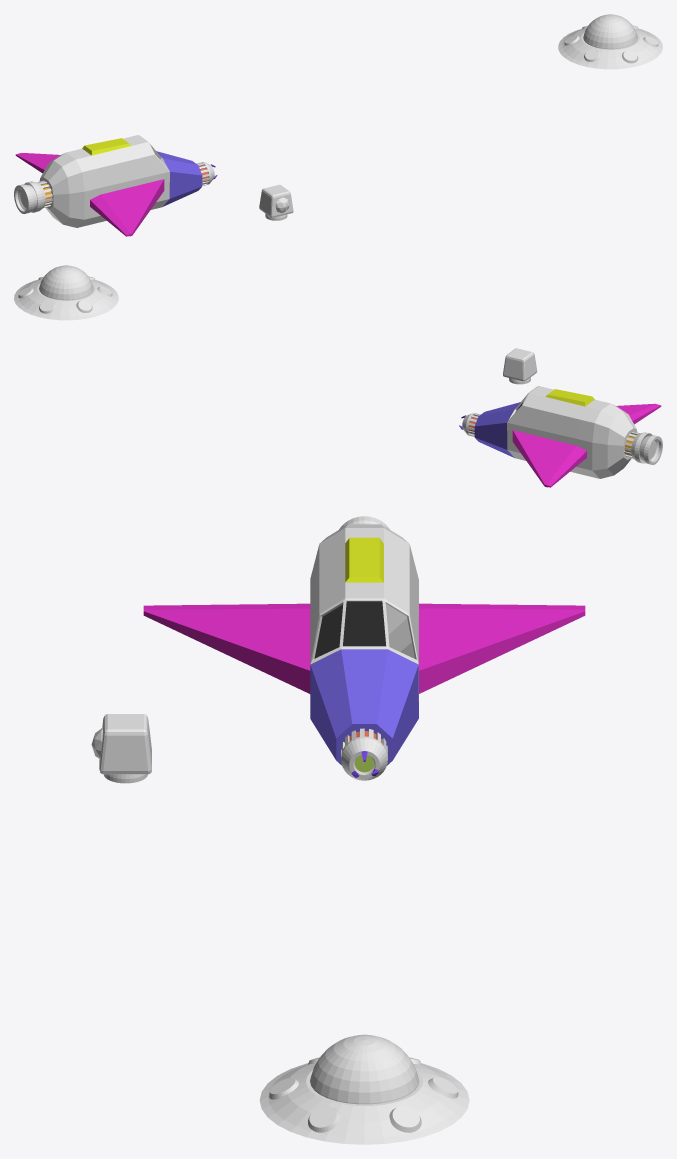
File: Spaceship.fbx
3 views of the same model, one above another, from view 1: azimuth 30°, elevation 25°; view 2: azimuth 150°, elevation 25°; view 3: azimuth 270°, elevation 25° (orthographic). The views are drawn at different scales.
Visible parts, largest first — view 1: Cylinder.001, Circle, Sphere, Cube; view 2: Cylinder.001, Circle, Sphere, Cube; view 3: Cylinder.001, Circle, Sphere, Cube.
Part boxes in pixels (x1=…): Cylinder.001: x1=14, y1=135, x2=217, y2=236; Circle: x1=558, y1=28, x2=662, y2=69; Sphere: x1=583, y1=14, x2=637, y2=49; Cube: x1=259, y1=184, x2=293, y2=217; Cylinder.001: x1=459, y1=386, x2=662, y2=487; Circle: x1=14, y1=279, x2=118, y2=320; Sphere: x1=39, y1=265, x2=93, y2=300; Cube: x1=503, y1=348, x2=537, y2=381; Cylinder.001: x1=143, y1=516, x2=585, y2=780; Circle: x1=259, y1=1063, x2=469, y2=1144; Sphere: x1=310, y1=1034, x2=419, y2=1104; Cube: x1=99, y1=714, x2=151, y2=774.
Size of the model in its own units: 1304 by 148 by 440.
